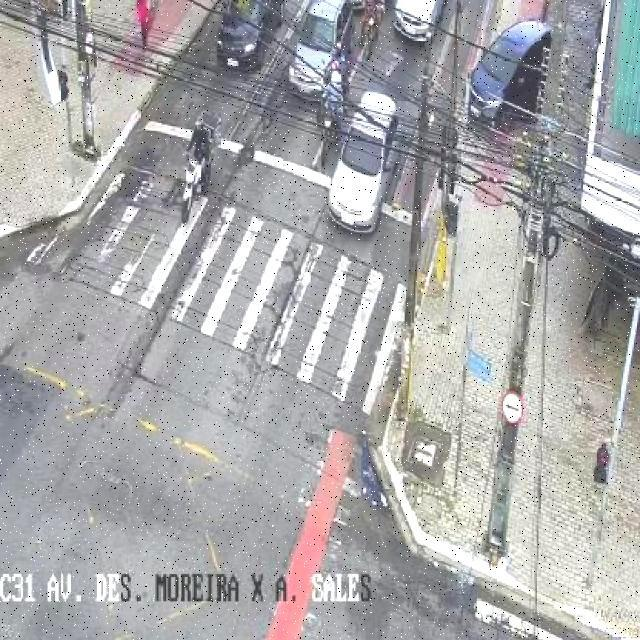Car: (324, 86, 400, 237), (458, 22, 554, 124), (285, 0, 357, 99), (212, 0, 284, 73), (392, 0, 446, 44)
Cycle: (176, 149, 219, 220), (320, 96, 346, 171)
